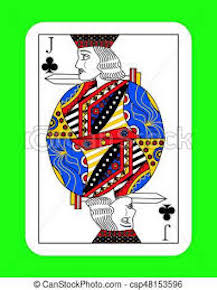JackOfClubs: (20, 18, 192, 260)
